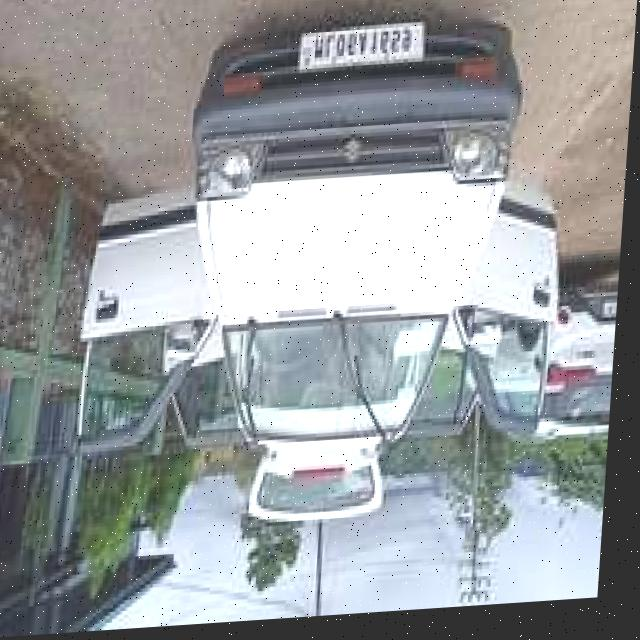plate: (297, 25, 428, 79)
